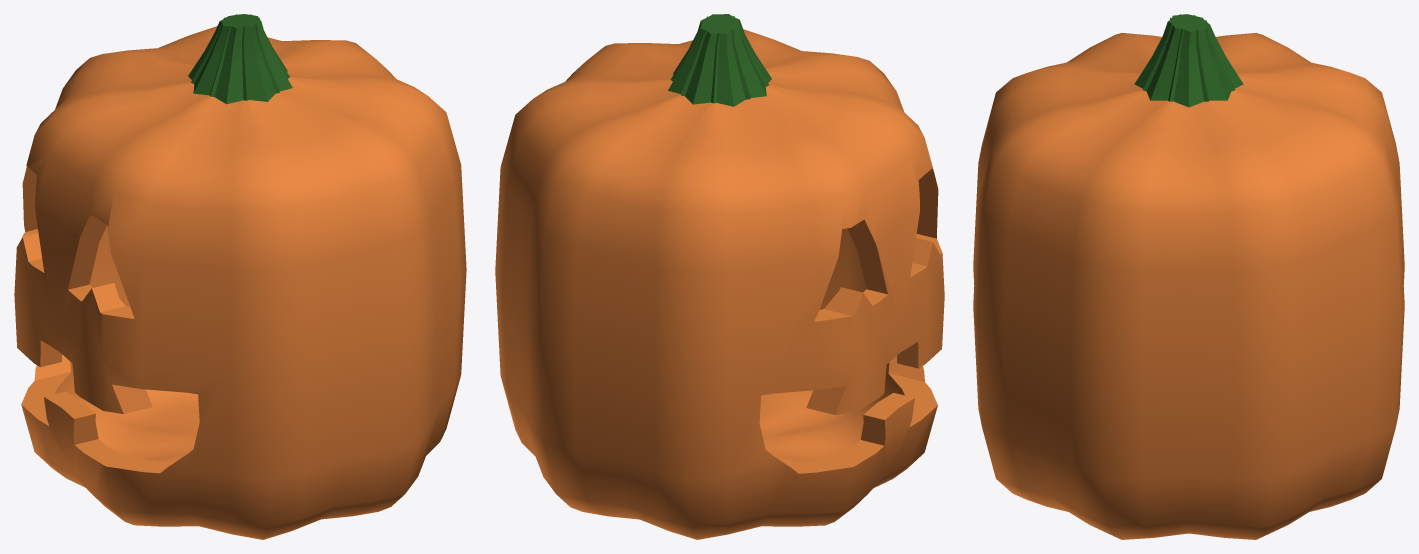
Rendered from jackolantern3.fbx.
The picture shows the model from 3 angles, left to right: view 1: azimuth 30°, elevation 25°; view 2: azimuth 150°, elevation 25°; view 3: azimuth 270°, elevation 25°; orthographic projection.
Parts seen in each view (by area): view 1: Cylinder.008; view 2: Cylinder.008; view 3: Cylinder.008.
Part boxes in pixels (box(x1,y1,x2,y2)): Cylinder.008: box(14, 14, 466, 539); Cylinder.008: box(495, 14, 944, 539); Cylinder.008: box(973, 14, 1404, 539).
Size of the model in its own units: 152 by 178 by 152.
